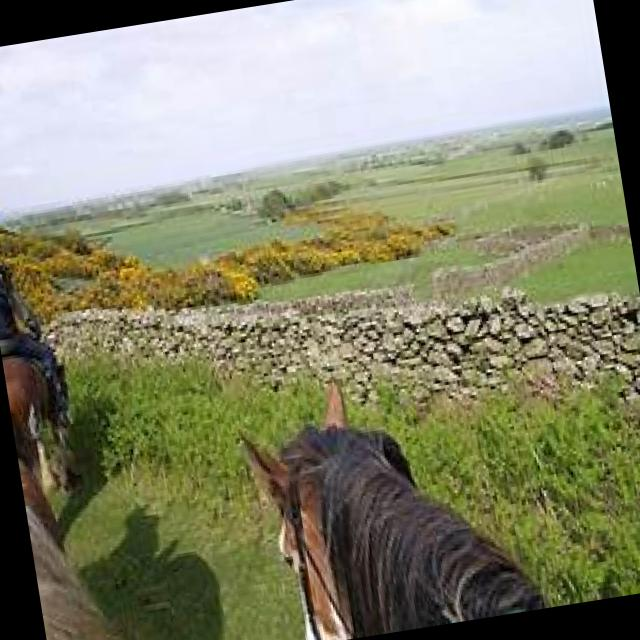horse: (234, 349, 549, 640), (2, 340, 86, 500)
